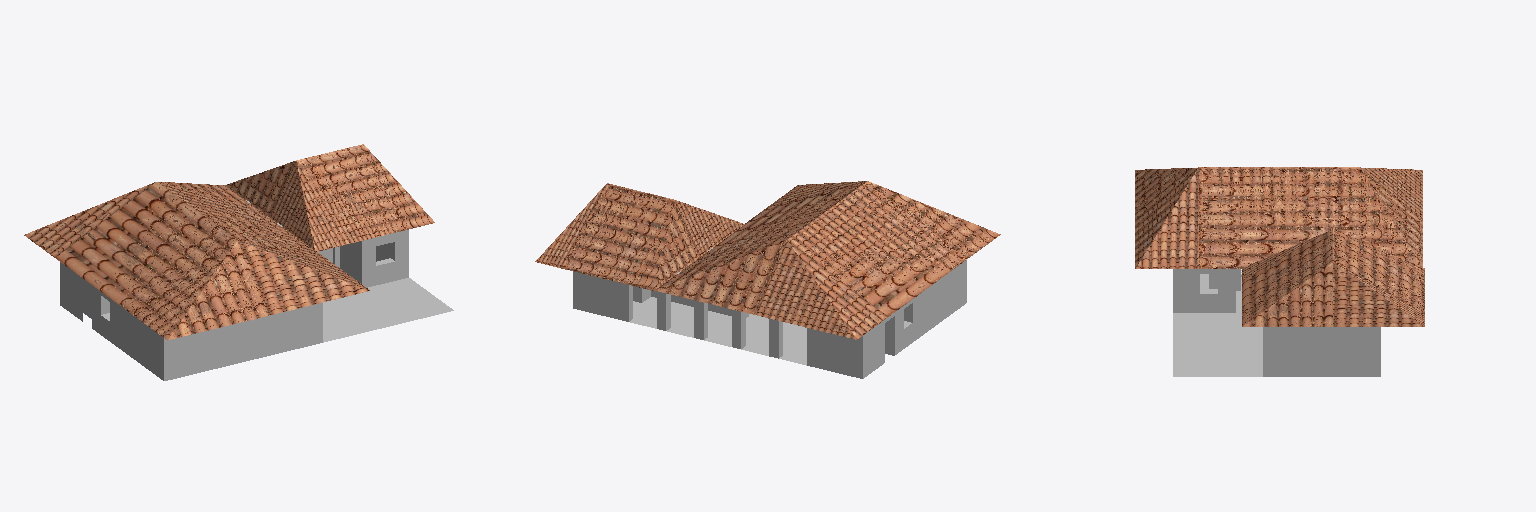
The picture shows the model from 3 angles: view 1: azimuth 30°, elevation 25°; view 2: azimuth 150°, elevation 25°; view 3: azimuth 270°, elevation 25°; orthographic projection.
Parts seen in each view (by area): view 1: Plane.001_Plane.003, Plane, Plane.002_Plane.004; view 2: Plane.001_Plane.003, Plane, Plane.002_Plane.004; view 3: Plane.001_Plane.003, Plane, Plane.002_Plane.004.
Part boxes in pixels (x1,y1,x2,y2): Plane.001_Plane.003: (24,182,369,339); Plane: (60,200,453,380); Plane.002_Plane.004: (226,144,434,251); Plane.001_Plane.003: (656,181,1000,339); Plane: (573,247,966,378); Plane.002_Plane.004: (535,183,744,290); Plane.001_Plane.003: (1135,167,1422,268); Plane: (1173,269,1380,376); Plane.002_Plane.004: (1242,229,1424,326).
Bounding box in the file's own units: 38.02 × 13.48 × 29.63.
4 materials, 1 textured.